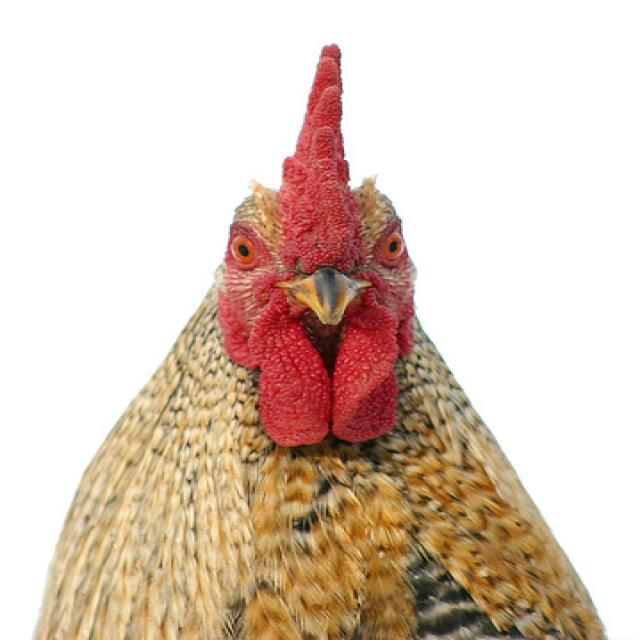bird: (37, 41, 611, 640)
